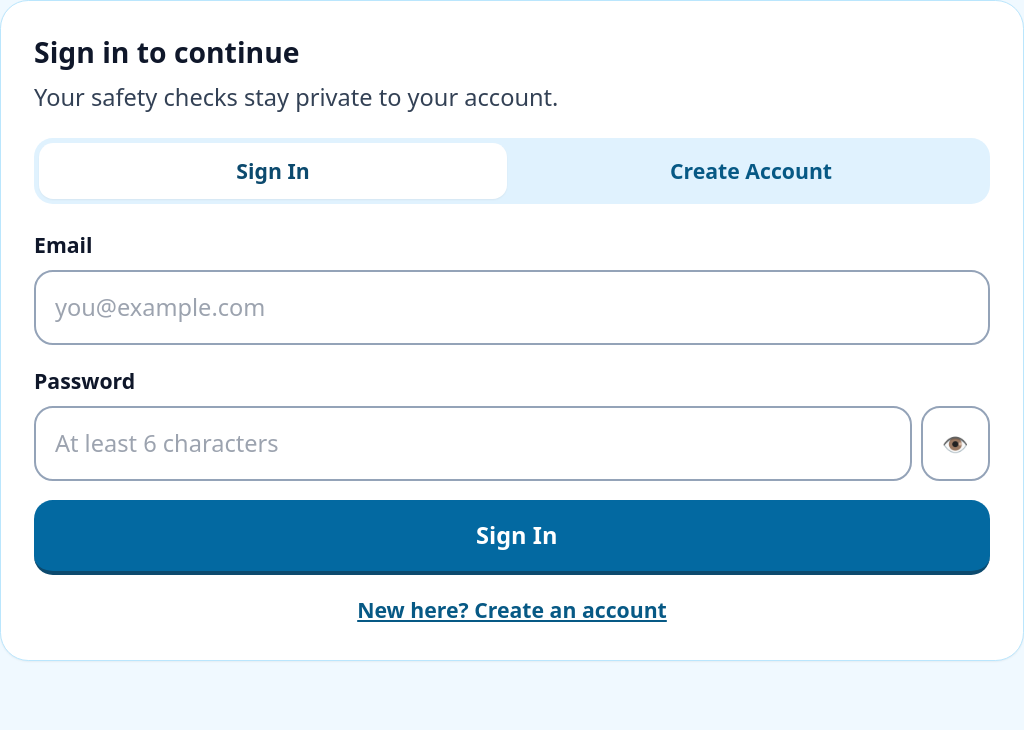
Scenario: AuthScreen › requires a name when registering
Click the tab "Create Account" at point(751, 171), box [517,143,985,199]
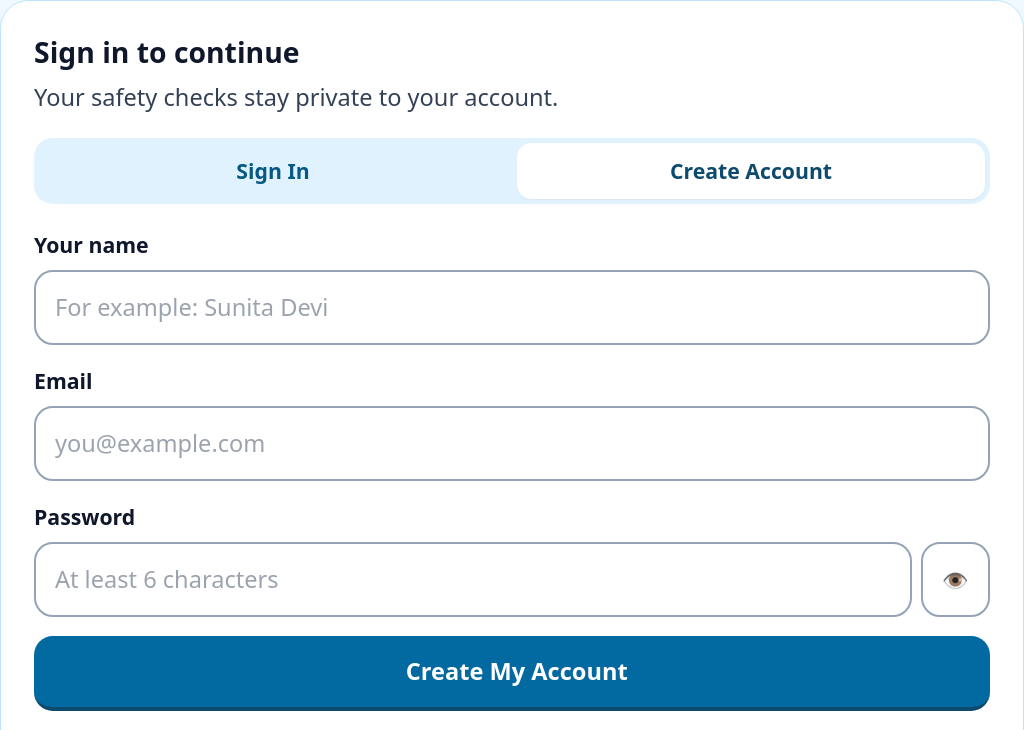
Type "s@b.com" into the field labelled "Email" at point(512, 444), box [34,406,990,481]
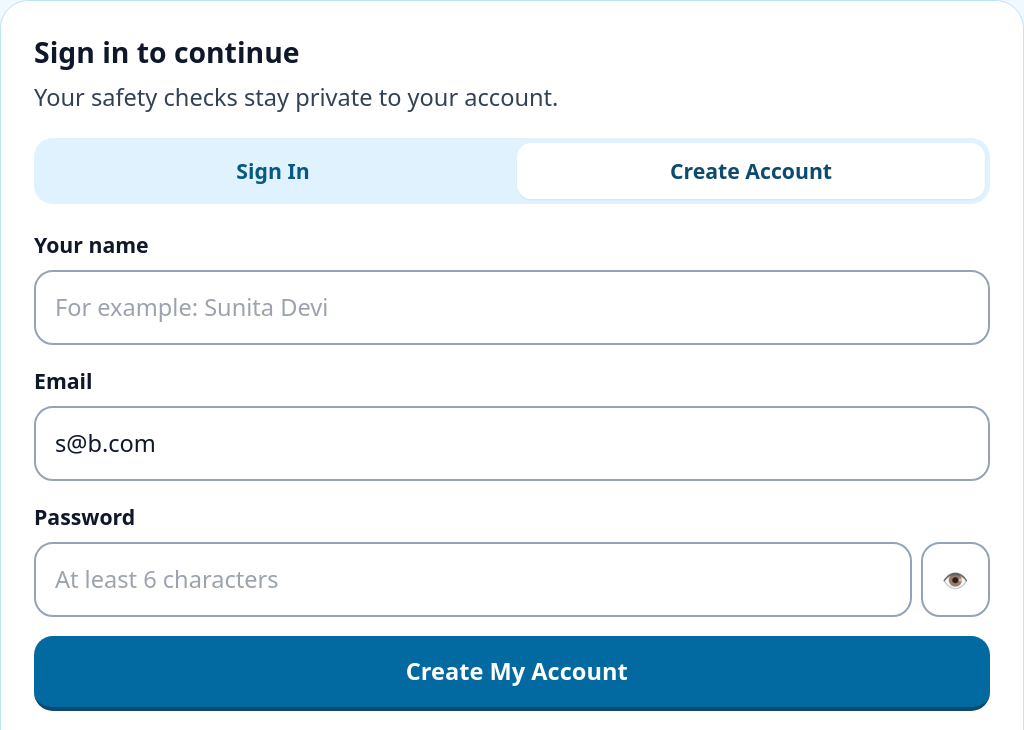
Type "secret1" into the password field labelled "Password" at point(473, 580), box [34,542,912,617]
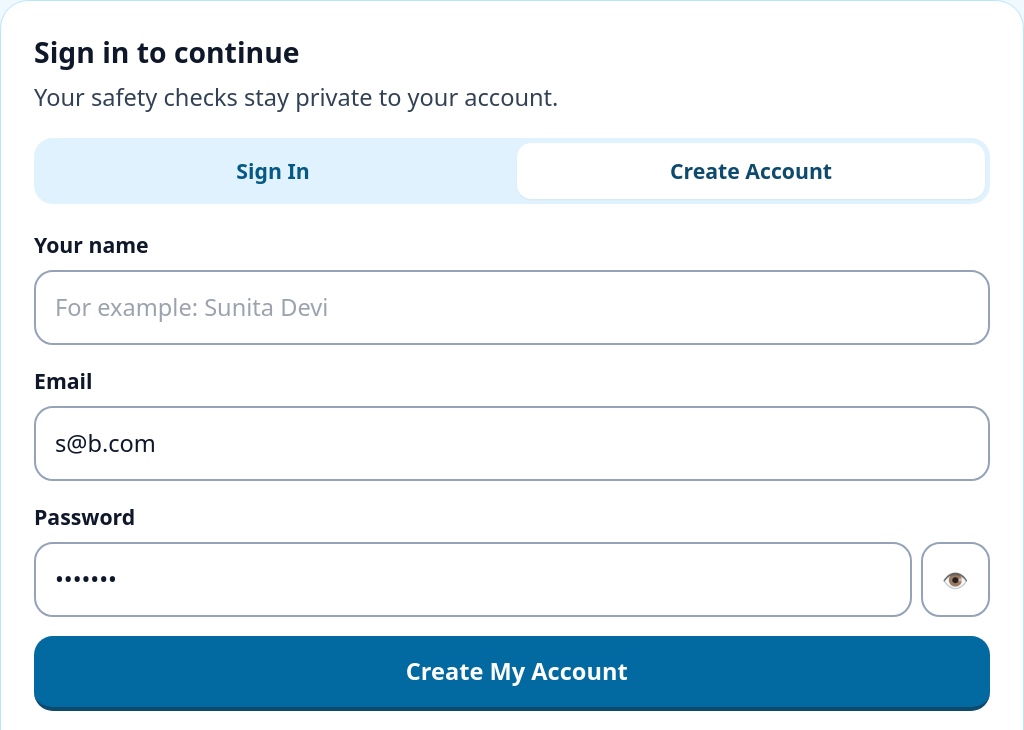
Click the button "Create My Account" at point(512, 673), box [34,636,990,711]
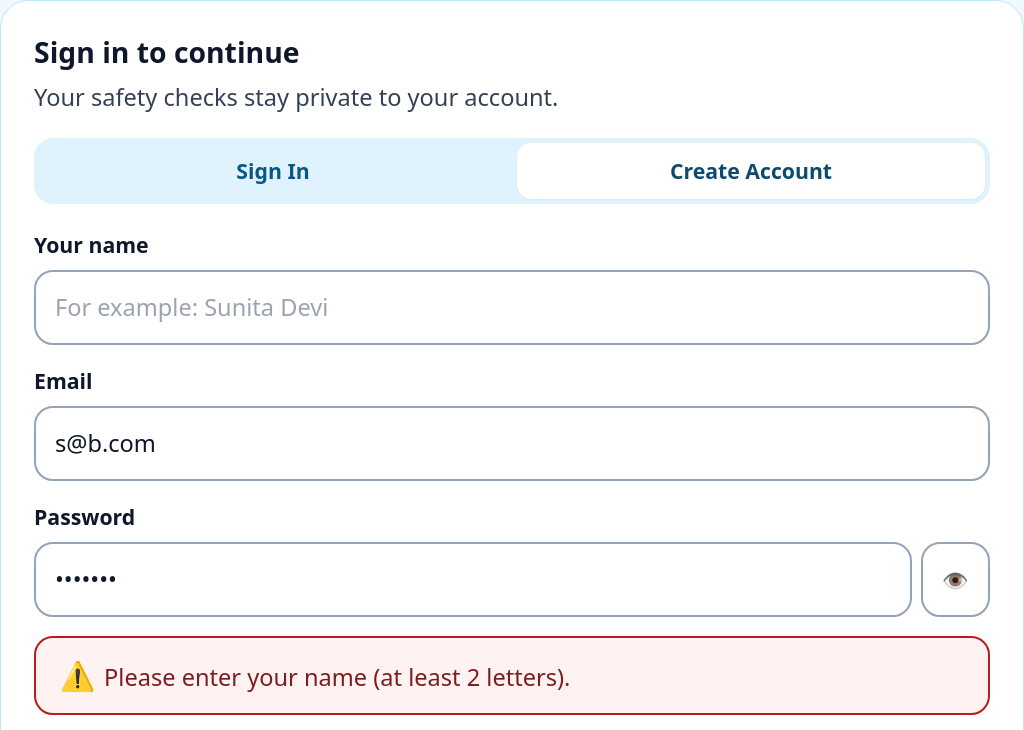
Check: the text "Please enter your name (at least 2 letters)." is shown, box [104,661,570,693]
